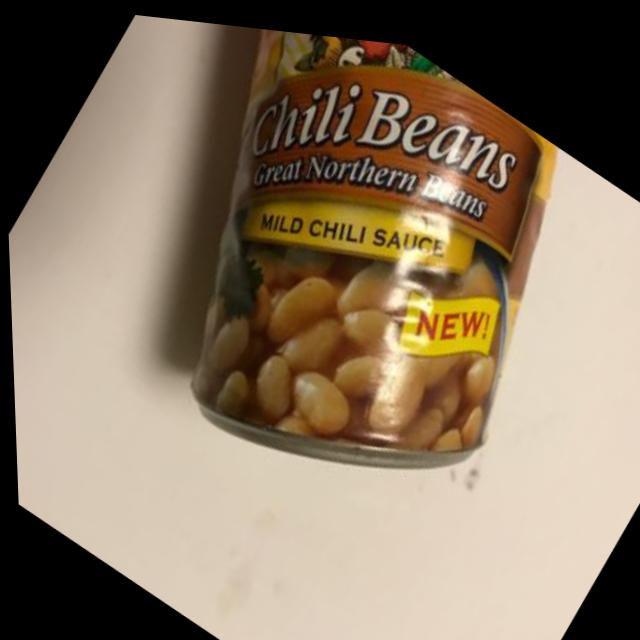metal: (18, 2, 640, 623)
